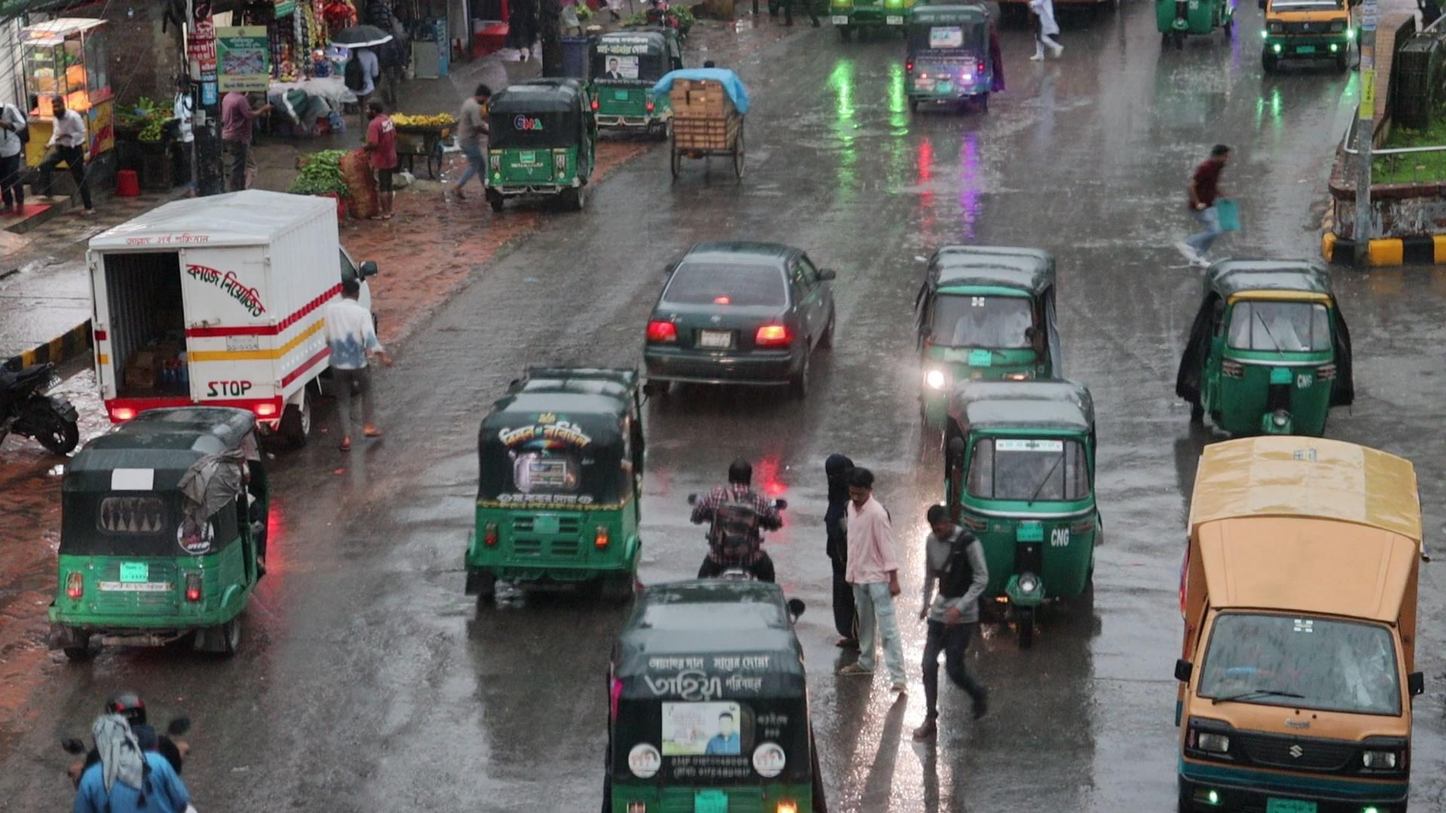Car: (642, 237, 838, 390)
Truck: (1170, 431, 1428, 808)
